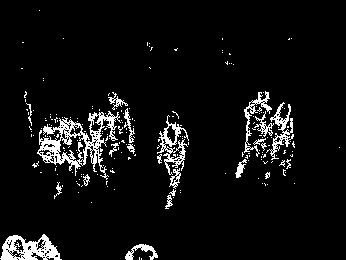person: (153, 109, 191, 210), (235, 93, 274, 183), (262, 100, 295, 177), (60, 114, 91, 192), (36, 114, 64, 200), (105, 89, 137, 157), (89, 104, 113, 186)
